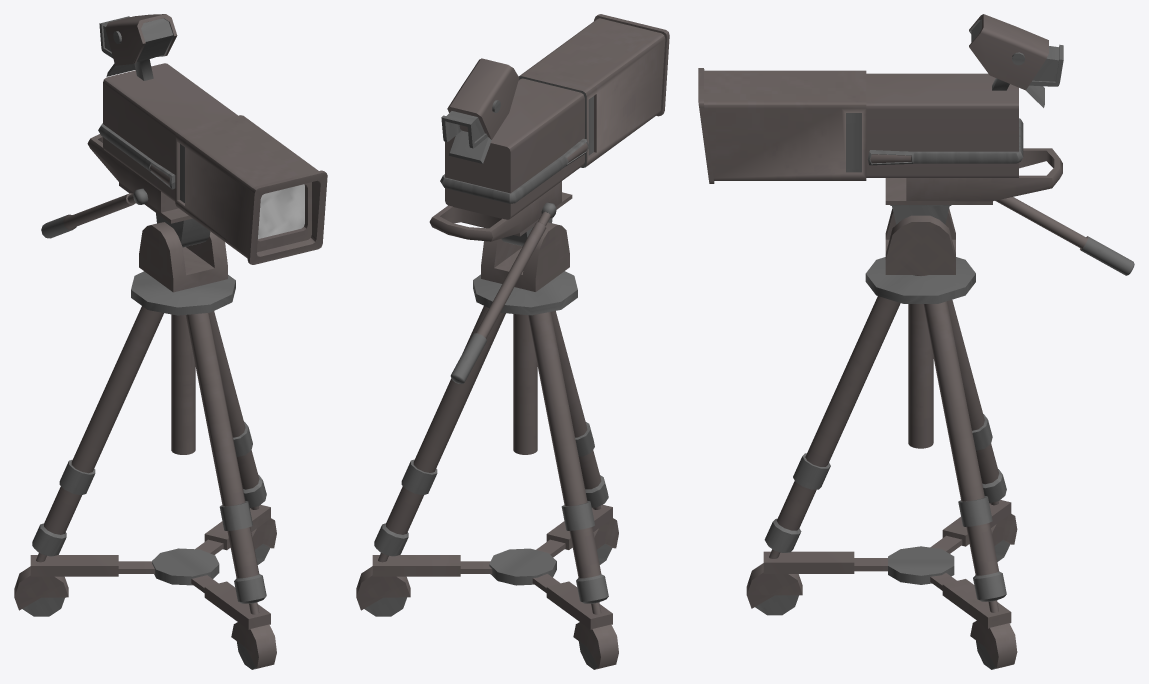
The model's file is pm-camera.glb.
The picture shows the model from 3 angles, left to right: view 1: azimuth 30°, elevation 25°; view 2: azimuth 150°, elevation 25°; view 3: azimuth 270°, elevation 25°; orthographic projection. The views are drawn at different scales.
Visible parts, largest first — view 1: Camera; view 2: Camera; view 3: Camera.
Boxes of the visible parts, bbox=[...] form: Camera: bbox=[14, 14, 327, 669]; Camera: bbox=[356, 14, 669, 669]; Camera: bbox=[698, 14, 1134, 669].
Bounding box in the file's own units: 0.8958 × 1.87 × 1.25.
Materials: 3 (3 with a texture image).
